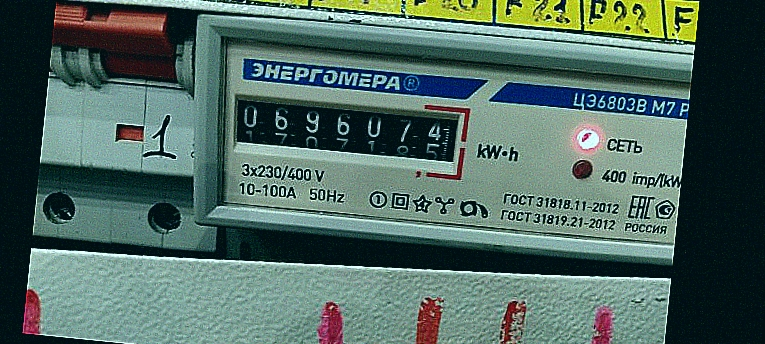0: (237, 101, 259, 128), (364, 111, 382, 139)
4: (425, 116, 443, 142)
5: (423, 140, 440, 160)
6: (270, 103, 292, 131), (332, 110, 351, 135)
7: (392, 115, 413, 143)
9: (300, 107, 321, 133)
screen: (216, 77, 475, 184)
